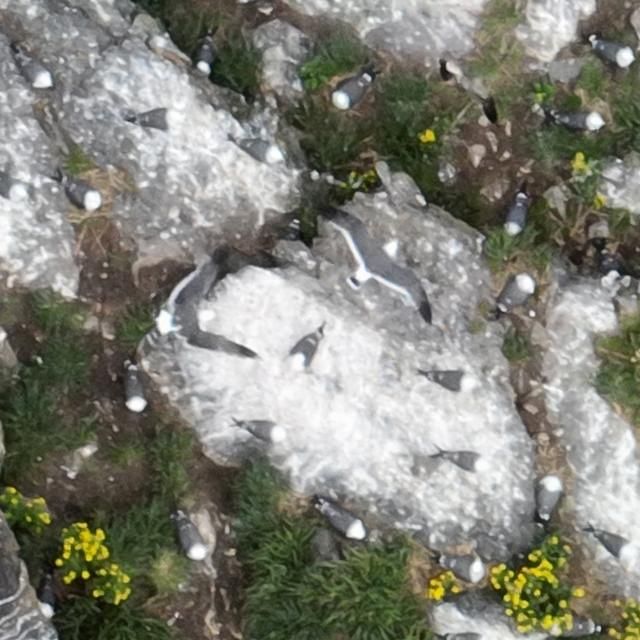F: (338, 218, 427, 316), (150, 251, 233, 352)
umineko: (286, 331, 324, 371), (325, 508, 365, 537), (180, 522, 208, 559), (594, 41, 634, 66), (502, 276, 534, 306), (18, 57, 51, 86), (334, 77, 366, 106), (238, 139, 282, 160), (67, 183, 102, 209), (447, 559, 486, 582), (442, 449, 483, 469), (598, 534, 632, 558), (427, 370, 467, 390), (239, 418, 282, 436), (539, 481, 561, 516), (506, 200, 527, 234), (127, 376, 146, 411), (562, 114, 598, 132), (41, 578, 58, 614), (563, 618, 599, 634), (138, 112, 170, 130), (197, 41, 212, 72)
